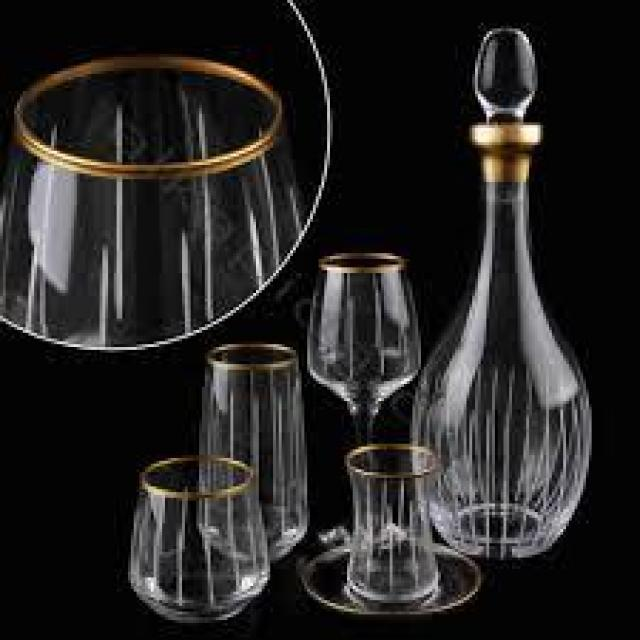glass: (406, 21, 592, 559), (2, 51, 304, 347), (304, 445, 481, 616), (128, 459, 273, 622)
